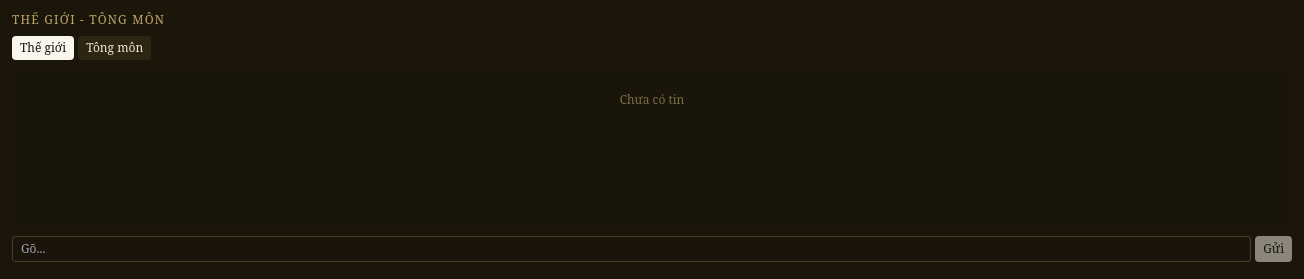
ChatPanel — realtime chat:msg frame › SECT frame đúng scopeKey → append
This screenshot has width=1304, height=279.
Click the button "Tông môn". click: (115, 48)
box: [78,36,151,60]
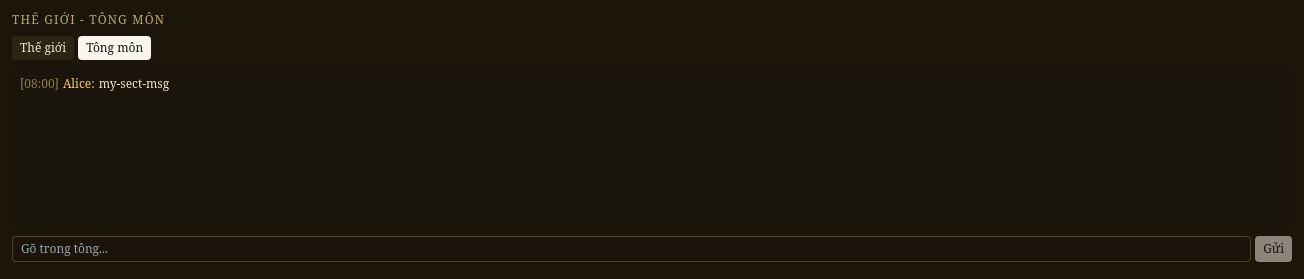
Now the text "my-sect-msg" is shown, box [99,75,169,92]
